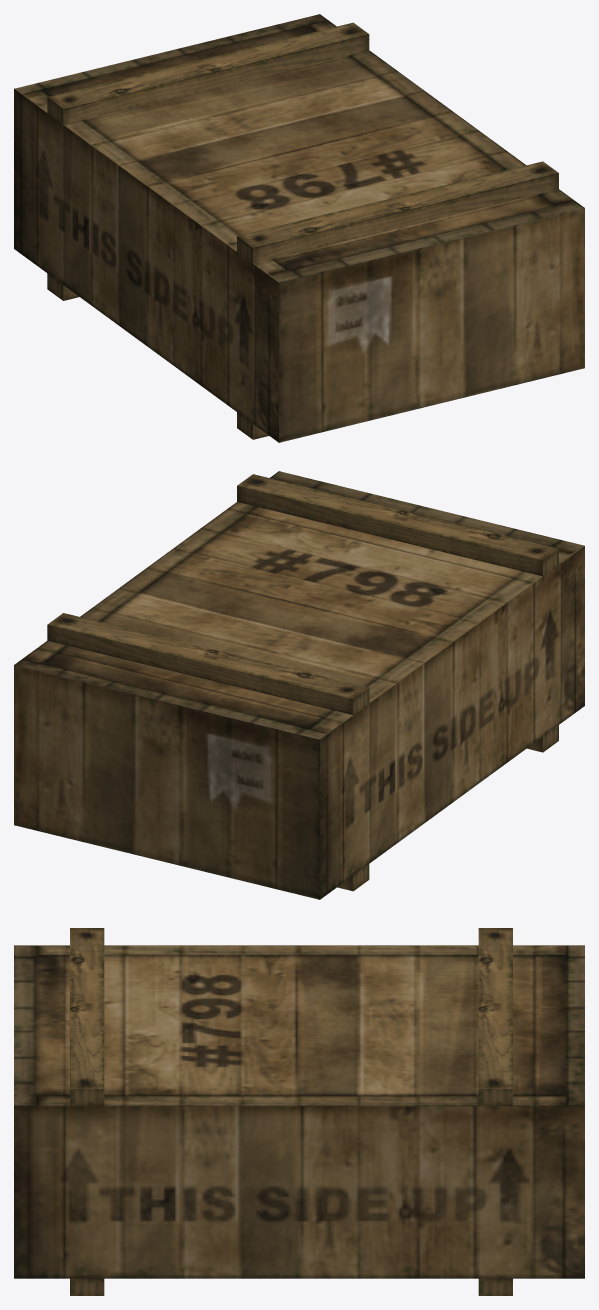
The model's file is crated2.gltf.
3 views of the same model, one above another, from view 1: azimuth 30°, elevation 25°; view 2: azimuth 150°, elevation 25°; view 3: azimuth 270°, elevation 25° (orthographic). The views are drawn at different scales.
Parts seen in each view (by area): view 1: crated; view 2: crated; view 3: crated.
Part boxes in pixels (x1,y1,x2,y2): crated: (14, 14, 584, 442); crated: (14, 471, 584, 899); crated: (14, 928, 584, 1295).
Size of the model in its own units: 1 by 0.6 by 1.5.
Materials: 1 (1 with a texture image).
